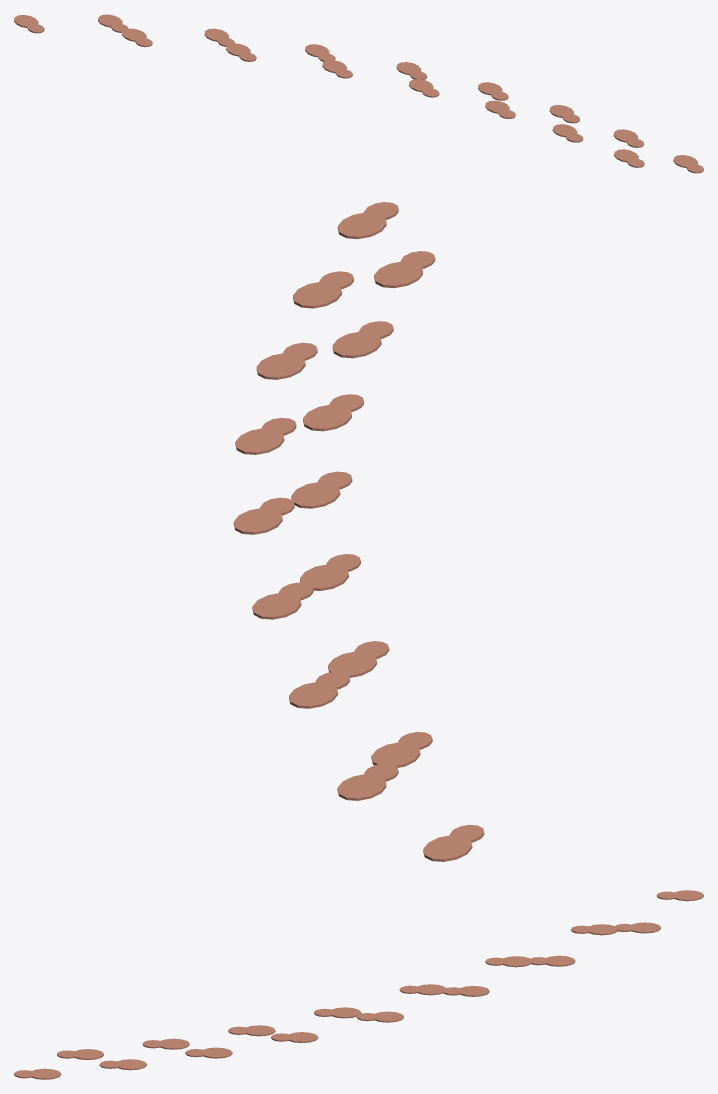
The model's file is footprint_trail.glb.
The picture shows the model from 3 angles, top to bottom: view 1: azimuth 30°, elevation 25°; view 2: azimuth 150°, elevation 25°; view 3: azimuth 270°, elevation 25°; orthographic projection. The views are drawn at different scales.
Visible parts, largest first — view 1: FootprintTrail; view 2: FootprintTrail; view 3: FootprintTrail.
Part boxes in pixels (x1,y1,x2,y2): FootprintTrail: [14, 14, 703, 173]; FootprintTrail: [233, 202, 484, 861]; FootprintTrail: [14, 890, 703, 1079].
Bounding box in the file's own units: 3.75 × 0.012 × 5.8.
